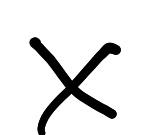mult: (29, 37, 122, 135)
